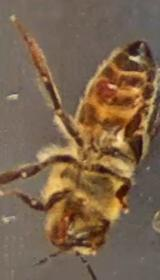varroa_mite: (90, 78, 126, 98)
